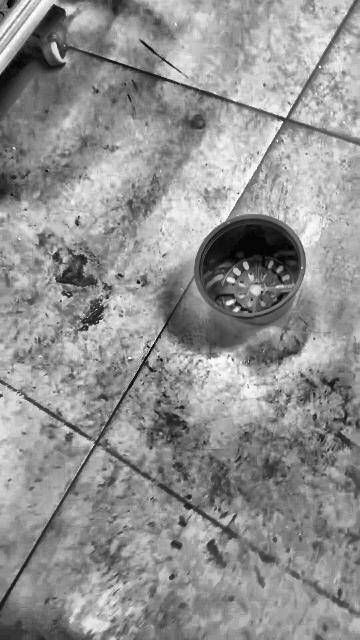pot: (195, 216, 306, 325)
